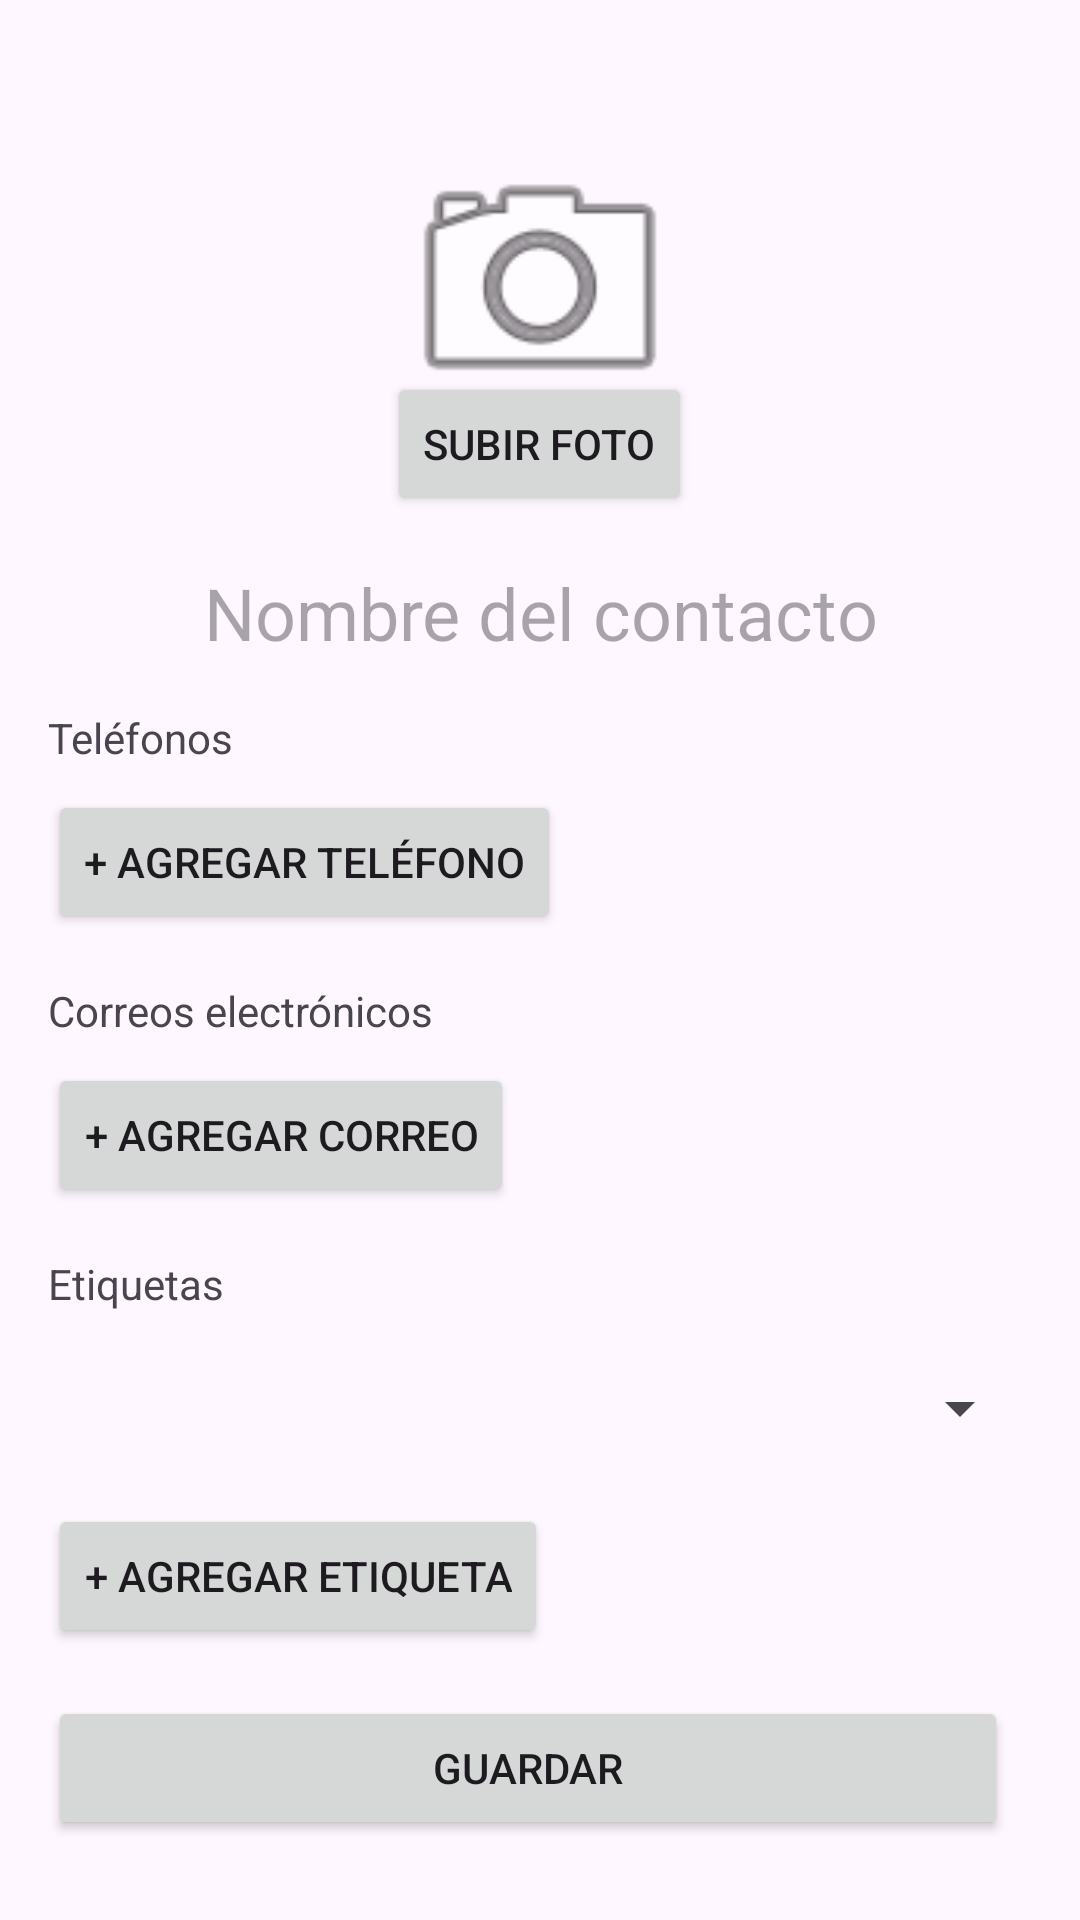

Where to tap for icons on this 1080×1920 app screen, as point (x, y):
camera: point (540, 277)
